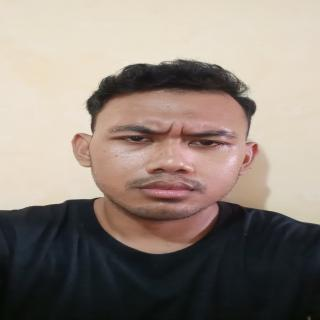Marah: (80, 82, 257, 221)
